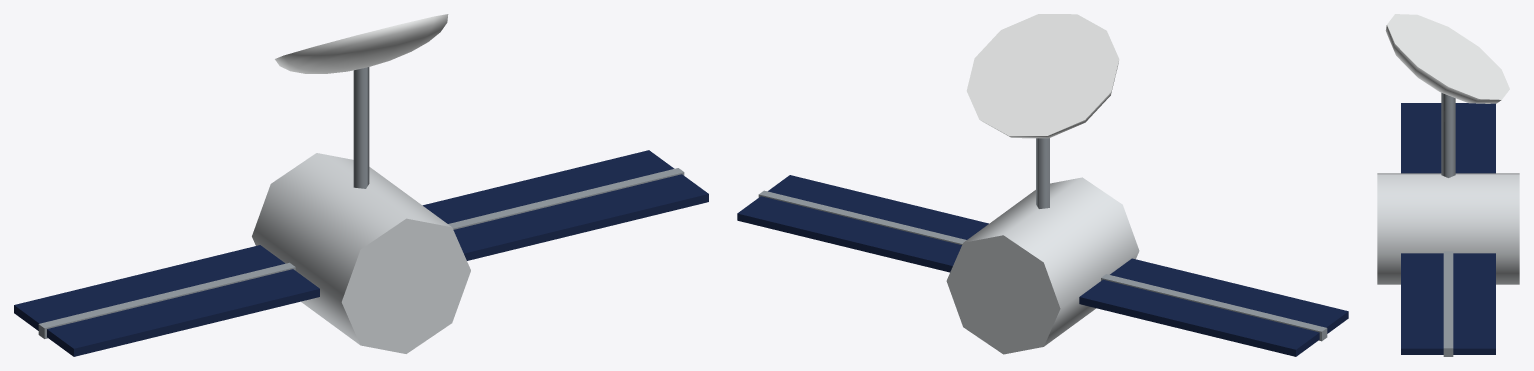
File: space_ship_probe_mk1.glb
3 renders of one model, left to right at view 1: azimuth 30°, elevation 25°; view 2: azimuth 150°, elevation 25°; view 3: azimuth 270°, elevation 25°, orthographic. The views are drawn at different scales.
Parts seen in each view (by area): view 1: body, solar_0, solar_1, antenna_0; view 2: body, antenna_0, solar_0, solar_1; view 3: body, solar_1, antenna_0, solar_0.
Part boxes in pixels (x1,y1,x2,y2): body: (252,153,470,353); solar_0: (14,245,319,356); solar_1: (422,150,708,260); antenna_0: (275,14,448,188); body: (946,177,1139,354); antenna_0: (966,14,1119,208); solar_0: (1079,258,1348,356); solar_1: (737,175,988,272); body: (1377,173,1519,284); solar_1: (1401,251,1495,356); antenna_0: (1385,14,1509,177); solar_0: (1401,103,1495,173).
Size of what is drawn, in the model's own units: 4.94 by 2.4 by 1.2.
